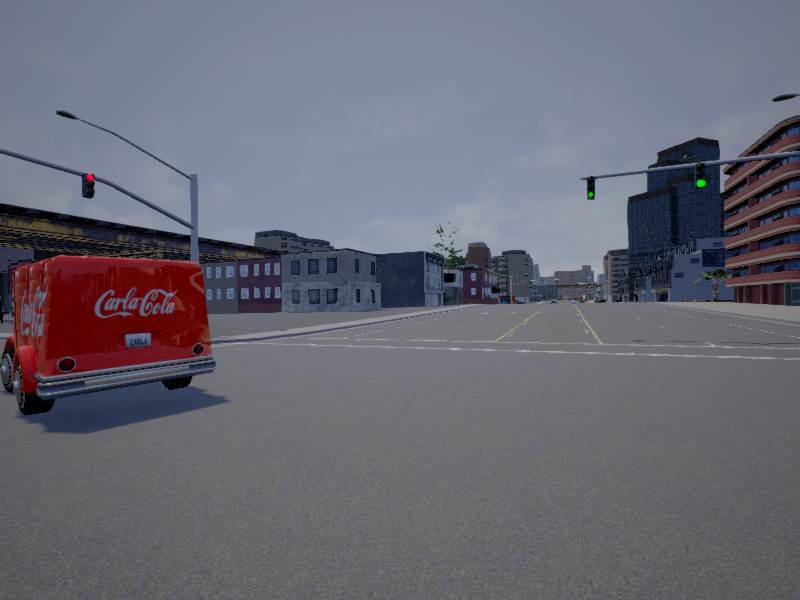Benign: (1, 254, 217, 421)
